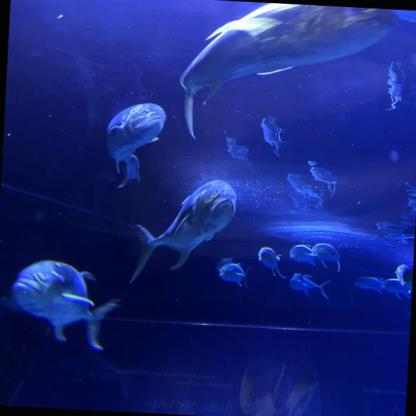fish: (176, 0, 396, 151), (129, 175, 238, 288), (9, 258, 122, 351), (103, 100, 168, 191), (308, 243, 342, 274), (289, 274, 330, 299), (257, 246, 284, 278), (218, 262, 251, 287), (354, 275, 394, 295), (396, 265, 413, 299), (383, 282, 411, 300), (290, 245, 316, 264)
